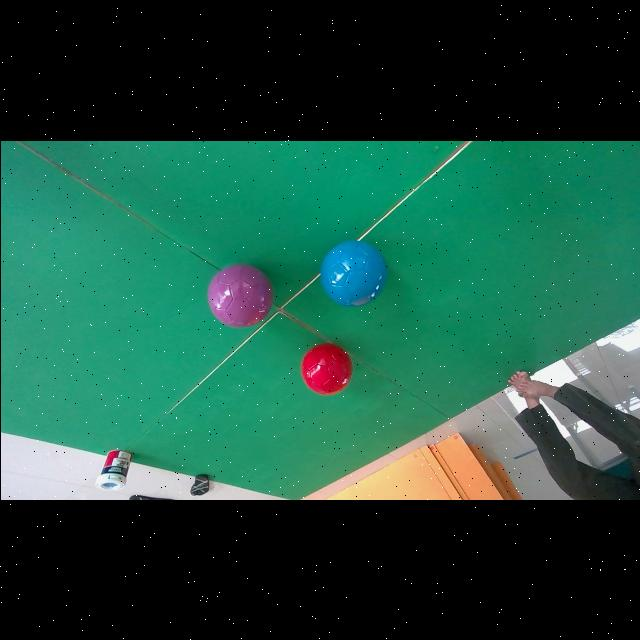B: (320, 241, 386, 306)
P: (207, 265, 273, 327)
R: (301, 343, 352, 395)
